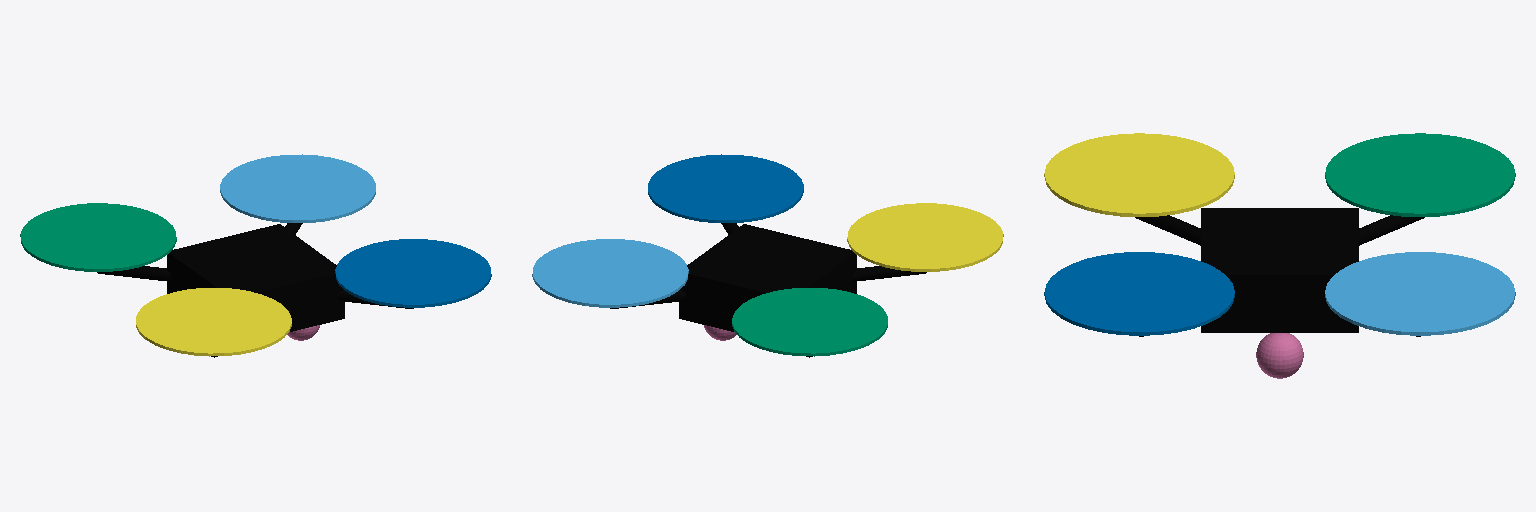
The robot description file, URDF, robot "quadrotor":
<?xml version="1.0"?>
<!-- Quadrotor test robot: spinning rotors and a two-axis camera gimbal. -->
<robot name="quadrotor">
  <link name="base_link">
    <visual>
      <geometry><box size="0.2 0.2 0.08"/></geometry>
      <material name="carbon"><color rgba="0.05 0.05 0.05 1"/></material>
    </visual>
    <visual name="arm_x">
      <origin rpy="0 1.5707963267948966 0.7853981633974483"/>
      <geometry><cylinder radius="0.01" length="0.5"/></geometry>
      <material name="carbon"/>
    </visual>
    <visual name="arm_y">
      <origin rpy="0 1.5707963267948966 -0.7853981633974483"/>
      <geometry><cylinder radius="0.01" length="0.5"/></geometry>
      <material name="carbon"/>
    </visual>
  </link>
  <link name="rotor_0"><visual><geometry><cylinder radius="0.12" length="0.005"/></geometry></visual></link>
  <joint name="rotor_0_joint" type="continuous">
    <parent link="base_link"/><child link="rotor_0"/>
    <origin xyz="0.1768 0.1768 0.05"/><axis xyz="0 0 1"/>
  </joint>
  <link name="rotor_1"><visual><geometry><cylinder radius="0.12" length="0.005"/></geometry></visual></link>
  <joint name="rotor_1_joint" type="continuous">
    <parent link="base_link"/><child link="rotor_1"/>
    <origin xyz="-0.1768 0.1768 0.05"/><axis xyz="0 0 1"/>
  </joint>
  <link name="rotor_2"><visual><geometry><cylinder radius="0.12" length="0.005"/></geometry></visual></link>
  <joint name="rotor_2_joint" type="continuous">
    <parent link="base_link"/><child link="rotor_2"/>
    <origin xyz="-0.1768 -0.1768 0.05"/><axis xyz="0 0 1"/>
  </joint>
  <link name="rotor_3"><visual><geometry><cylinder radius="0.12" length="0.005"/></geometry></visual></link>
  <joint name="rotor_3_joint" type="continuous">
    <parent link="base_link"/><child link="rotor_3"/>
    <origin xyz="0.1768 -0.1768 0.05"/><axis xyz="0 0 1"/>
  </joint>

  <link name="gimbal_yaw_link"/>
  <joint name="gimbal_yaw" type="revolute">
    <parent link="base_link"/><child link="gimbal_yaw_link"/>
    <origin xyz="0.08 0 -0.06"/><axis xyz="0 0 1"/>
    <limit lower="-3.14" upper="3.14" effort="1" velocity="1"/>
  </joint>
  <link name="gimbal_pitch_link">
    <visual><geometry><sphere radius="0.03"/></geometry></visual>
  </link>
  <joint name="gimbal_pitch" type="revolute">
    <parent link="gimbal_yaw_link"/><child link="gimbal_pitch_link"/>
    <origin xyz="0 0 -0.02"/><axis xyz="0 1 0"/>
    <limit lower="-0.5" upper="1.57" effort="1" velocity="1"/>
  </joint>

  <gazebo reference="gimbal_pitch_link">
    <sensor type="camera" name="gimbal_cam">
      <pose>0.03 0 0 0 0 0</pose>
      <camera>
        <horizontal_fov>1.2</horizontal_fov>
        <image><width>640</width><height>480</height></image>
      </camera>
    </sensor>
  </gazebo>
</robot>

--- What the picture shows (computed from the rendered views, not written in the file) ---
3 views of the same robot in one strip: view 1: azimuth 30°, elevation 25°; view 2: azimuth 150°, elevation 25°; view 3: azimuth 270°, elevation 25° (orthographic).
Model quadrotor with 7 links and 6 joints (2 revolute, 4 continuous), rooted at base_link, posed all joints at 0.
Links seen in each view (by area): view 1: base_link, rotor_1, rotor_3, rotor_0, rotor_2; view 2: base_link, rotor_0, rotor_2, rotor_1, rotor_3; view 3: base_link, rotor_0, rotor_3, rotor_1, rotor_2, gimbal_pitch_link.
Link boxes in pixels (x1=…): base_link: x1=97, y1=223, x2=413, y2=357; rotor_1: x1=20, y1=203, x2=176, y2=271; rotor_3: x1=335, y1=239, x2=491, y2=307; rotor_0: x1=220, y1=154, x2=375, y2=222; rotor_2: x1=136, y1=288, x2=291, y2=356; base_link: x1=610, y1=223, x2=926, y2=357; rotor_0: x1=532, y1=239, x2=688, y2=307; rotor_2: x1=847, y1=203, x2=1003, y2=271; rotor_1: x1=732, y1=288, x2=887, y2=356; rotor_3: x1=648, y1=154, x2=803, y2=222; base_link: x1=1135, y1=208, x2=1424, y2=336; rotor_0: x1=1325, y1=252, x2=1515, y2=335; rotor_3: x1=1044, y1=252, x2=1234, y2=335; rotor_1: x1=1325, y1=133, x2=1515, y2=216; rotor_2: x1=1044, y1=133, x2=1234, y2=216; gimbal_pitch_link: x1=1256, y1=333, x2=1303, y2=378.
Bounding box of the posed robot: 0.5936 × 0.5936 × 0.1625 m (x, y, z).
Geometry: primitives only (box / cylinder / sphere), no mesh files.
